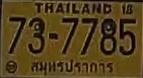3: (27, 17, 44, 53)
5: (118, 18, 136, 55)
7: (8, 16, 26, 53), (61, 17, 78, 53), (81, 17, 97, 54)
8: (100, 18, 116, 54)
SPK: (28, 56, 118, 78)
